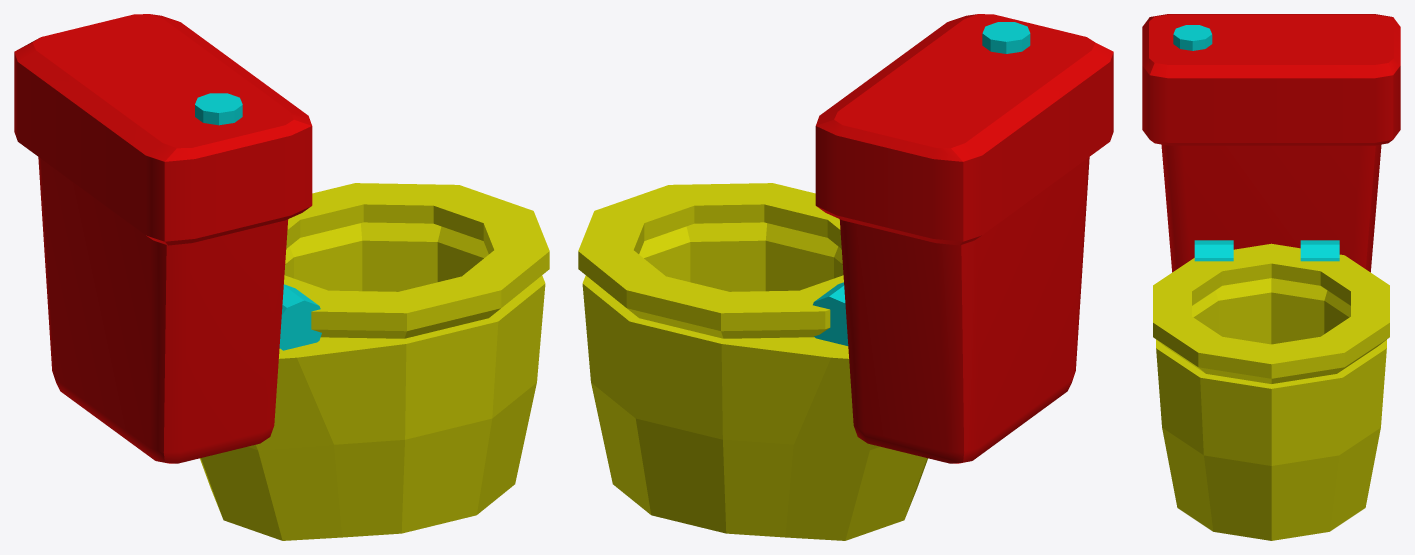
Rendered from Mesh_toilette_001.fbx.
The picture shows the model from 3 angles, left to right: view 1: azimuth 30°, elevation 25°; view 2: azimuth 150°, elevation 25°; view 3: azimuth 270°, elevation 25°; orthographic projection. The views are drawn at different scales.
Parts seen in each view (by area): view 1: Mesh_Toilette_001; view 2: Mesh_Toilette_001; view 3: Mesh_Toilette_001.
Boxes of the visible parts, left/top/right/bottom form: Mesh_Toilette_001: left=14, top=14, right=549, bottom=540; Mesh_Toilette_001: left=578, top=14, right=1113, bottom=540; Mesh_Toilette_001: left=1142, top=14, right=1400, bottom=540.
Size of the model in its own units: 99.82 by 98.38 by 61.15.
